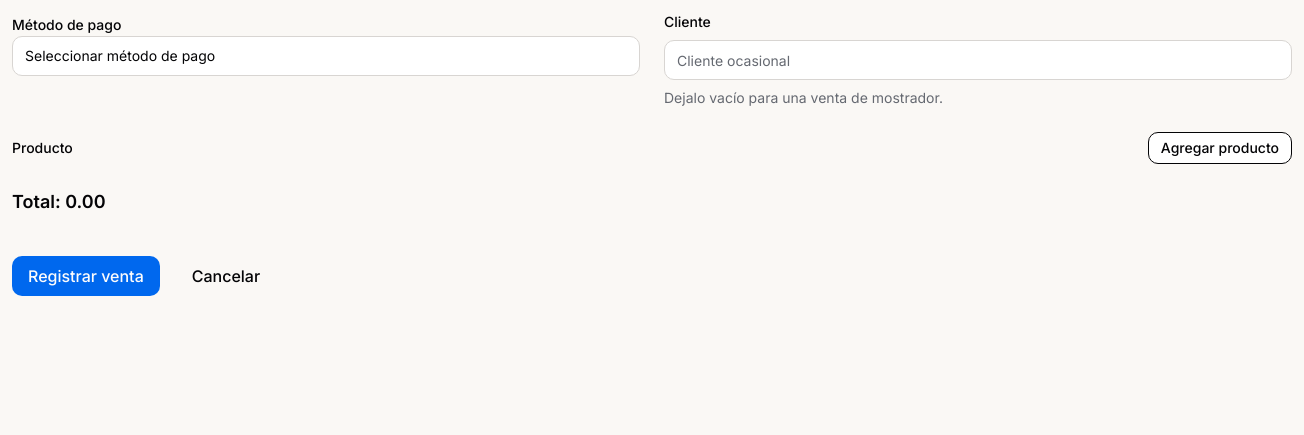
Test case: CheckoutForm › S10: adds a product line with read-only catalog price and live subtotal/total
Click the button "Agregar producto" at (1220, 148), box [1148,132,1292,164]
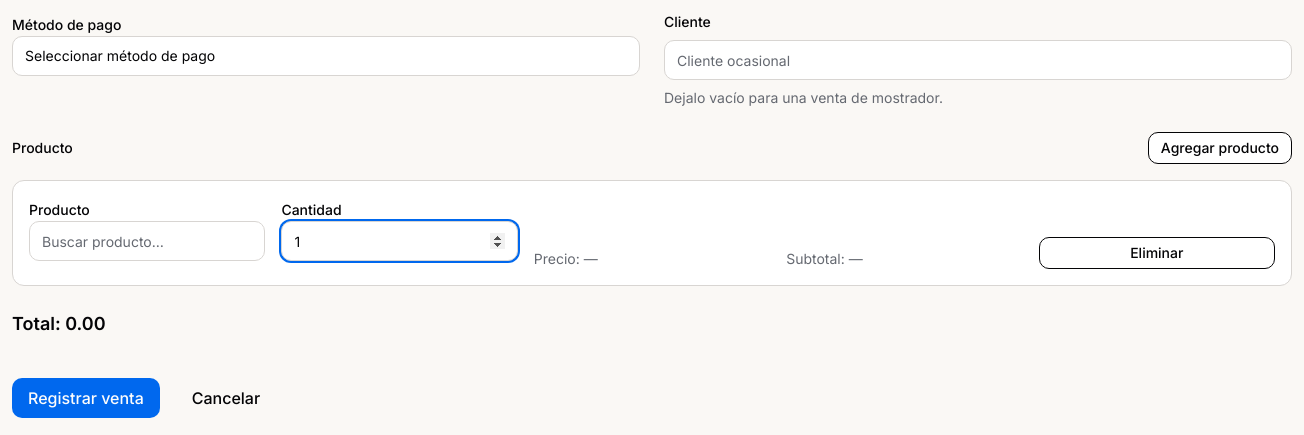
Click the dropdown labelled "Producto" at (147, 241), box [29,221,265,261]
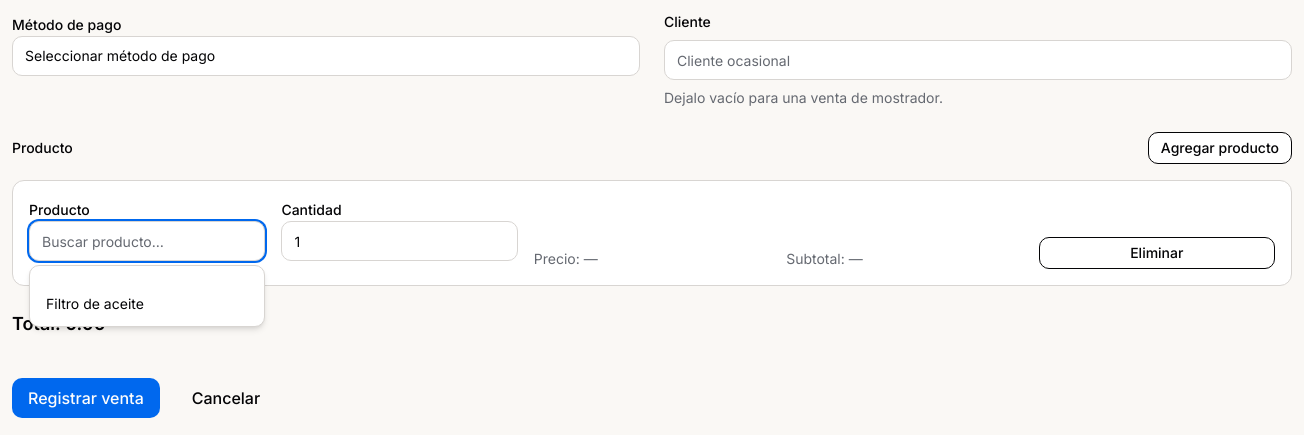
Click the option "Filtro de aceite" at (95, 304), box [46,295,144,312]
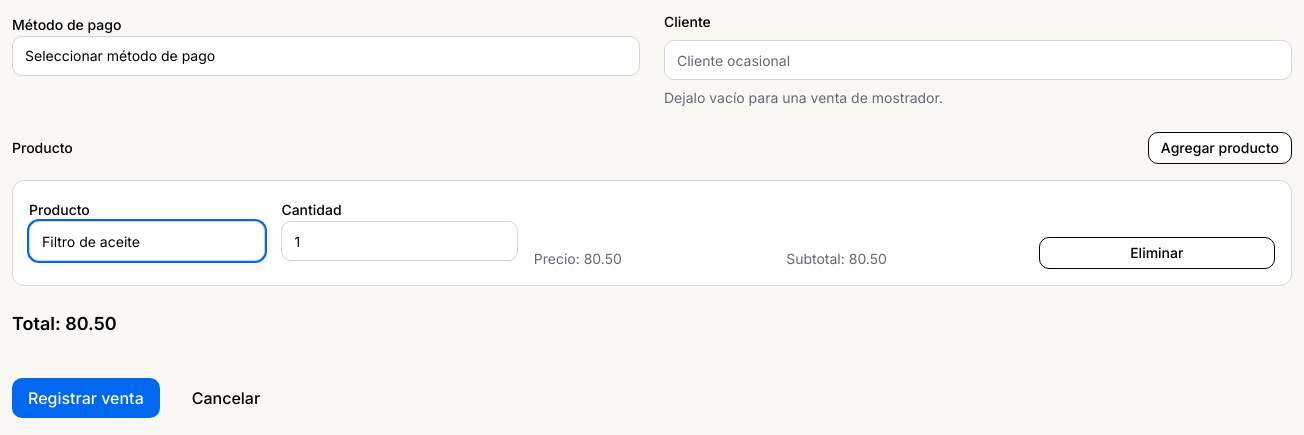
Replace the text in the number field labelled "Cantidad" with "2" at (400, 241), box [281,221,518,261]
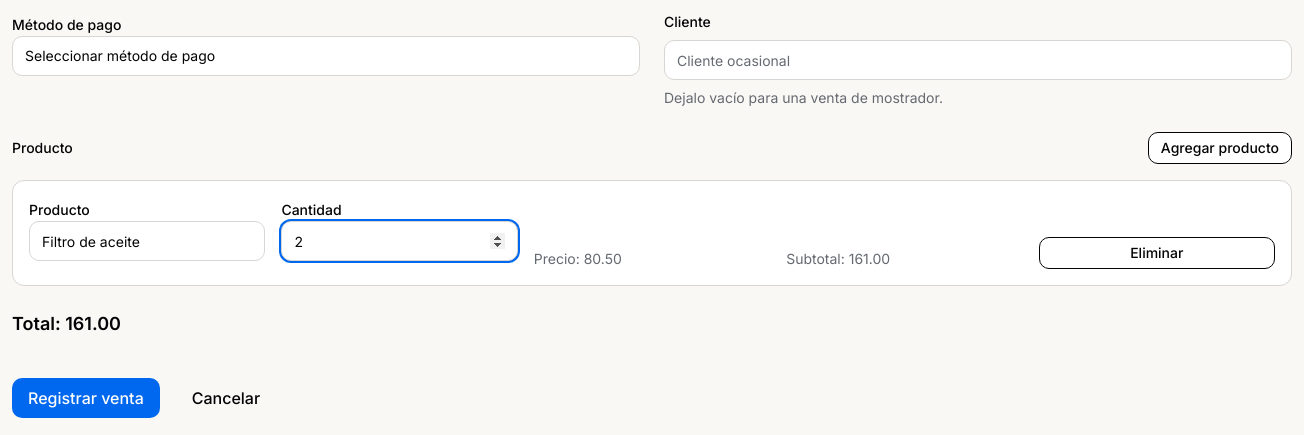
Check: the text "Precio: 80.50" is shown, box [534,249,622,269]
Check: the text "Subtotal: 161.00" is shown, box [786,249,890,269]
Check: the text "Total: 161.00" is shown, box [12,313,121,334]
